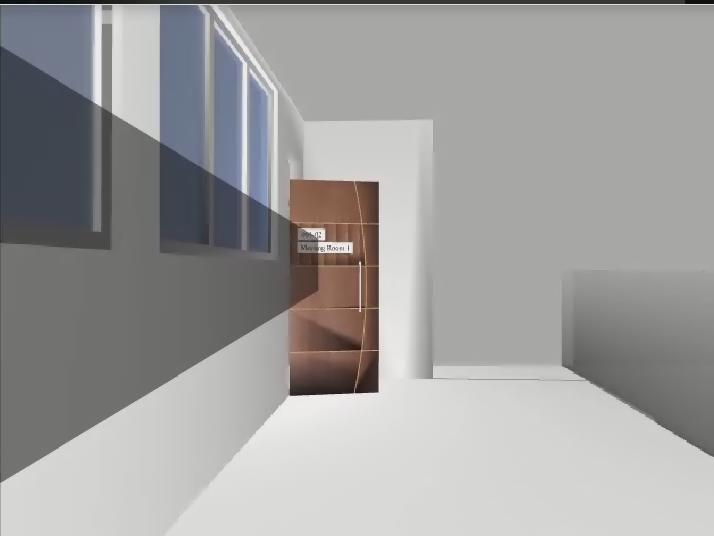door: (290, 179, 379, 397)
